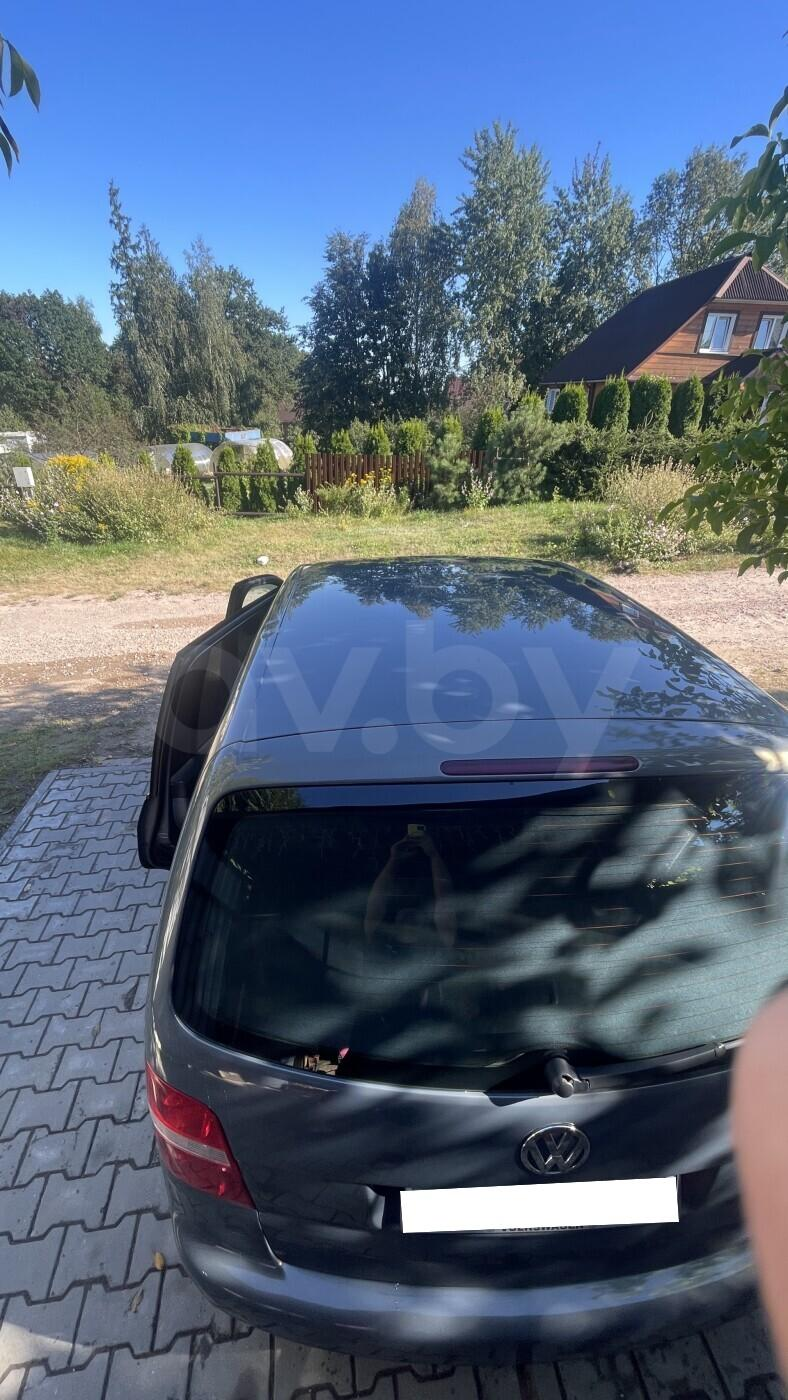Touran_2003-2006: (136, 556, 788, 1344)
